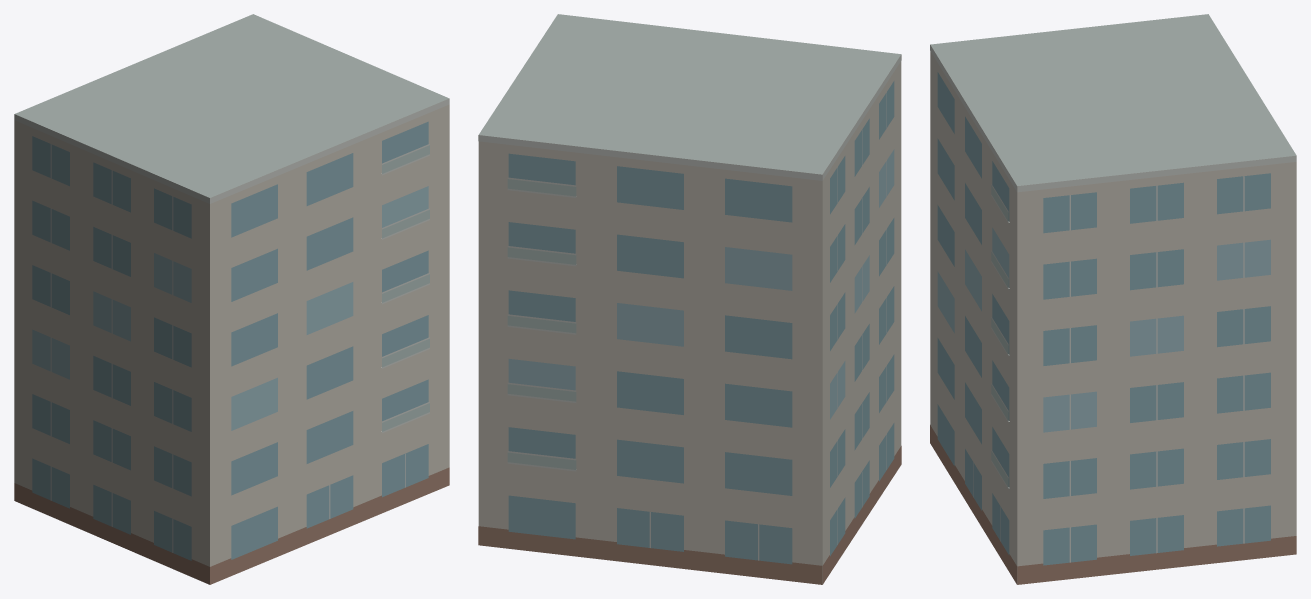
Rendered from survey-upis-33042778.glb.
The picture shows the model from 3 angles, left to right: view 1: azimuth 30°, elevation 25°; view 2: azimuth 150°, elevation 25°; view 3: azimuth 270°, elevation 25°; orthographic projection. The views are drawn at different scales.
Parts seen in each view (by area): view 1: survey-upis-33042778.tmp; view 2: survey-upis-33042778.tmp; view 3: survey-upis-33042778.tmp.
Part boxes in pixels (x1,y1,x2,y2): survey-upis-33042778.tmp: (14, 14, 449, 584); survey-upis-33042778.tmp: (478, 14, 901, 584); survey-upis-33042778.tmp: (930, 14, 1296, 584).
Bounding box in the file's own units: 14.64 × 15.8 × 13.17.
